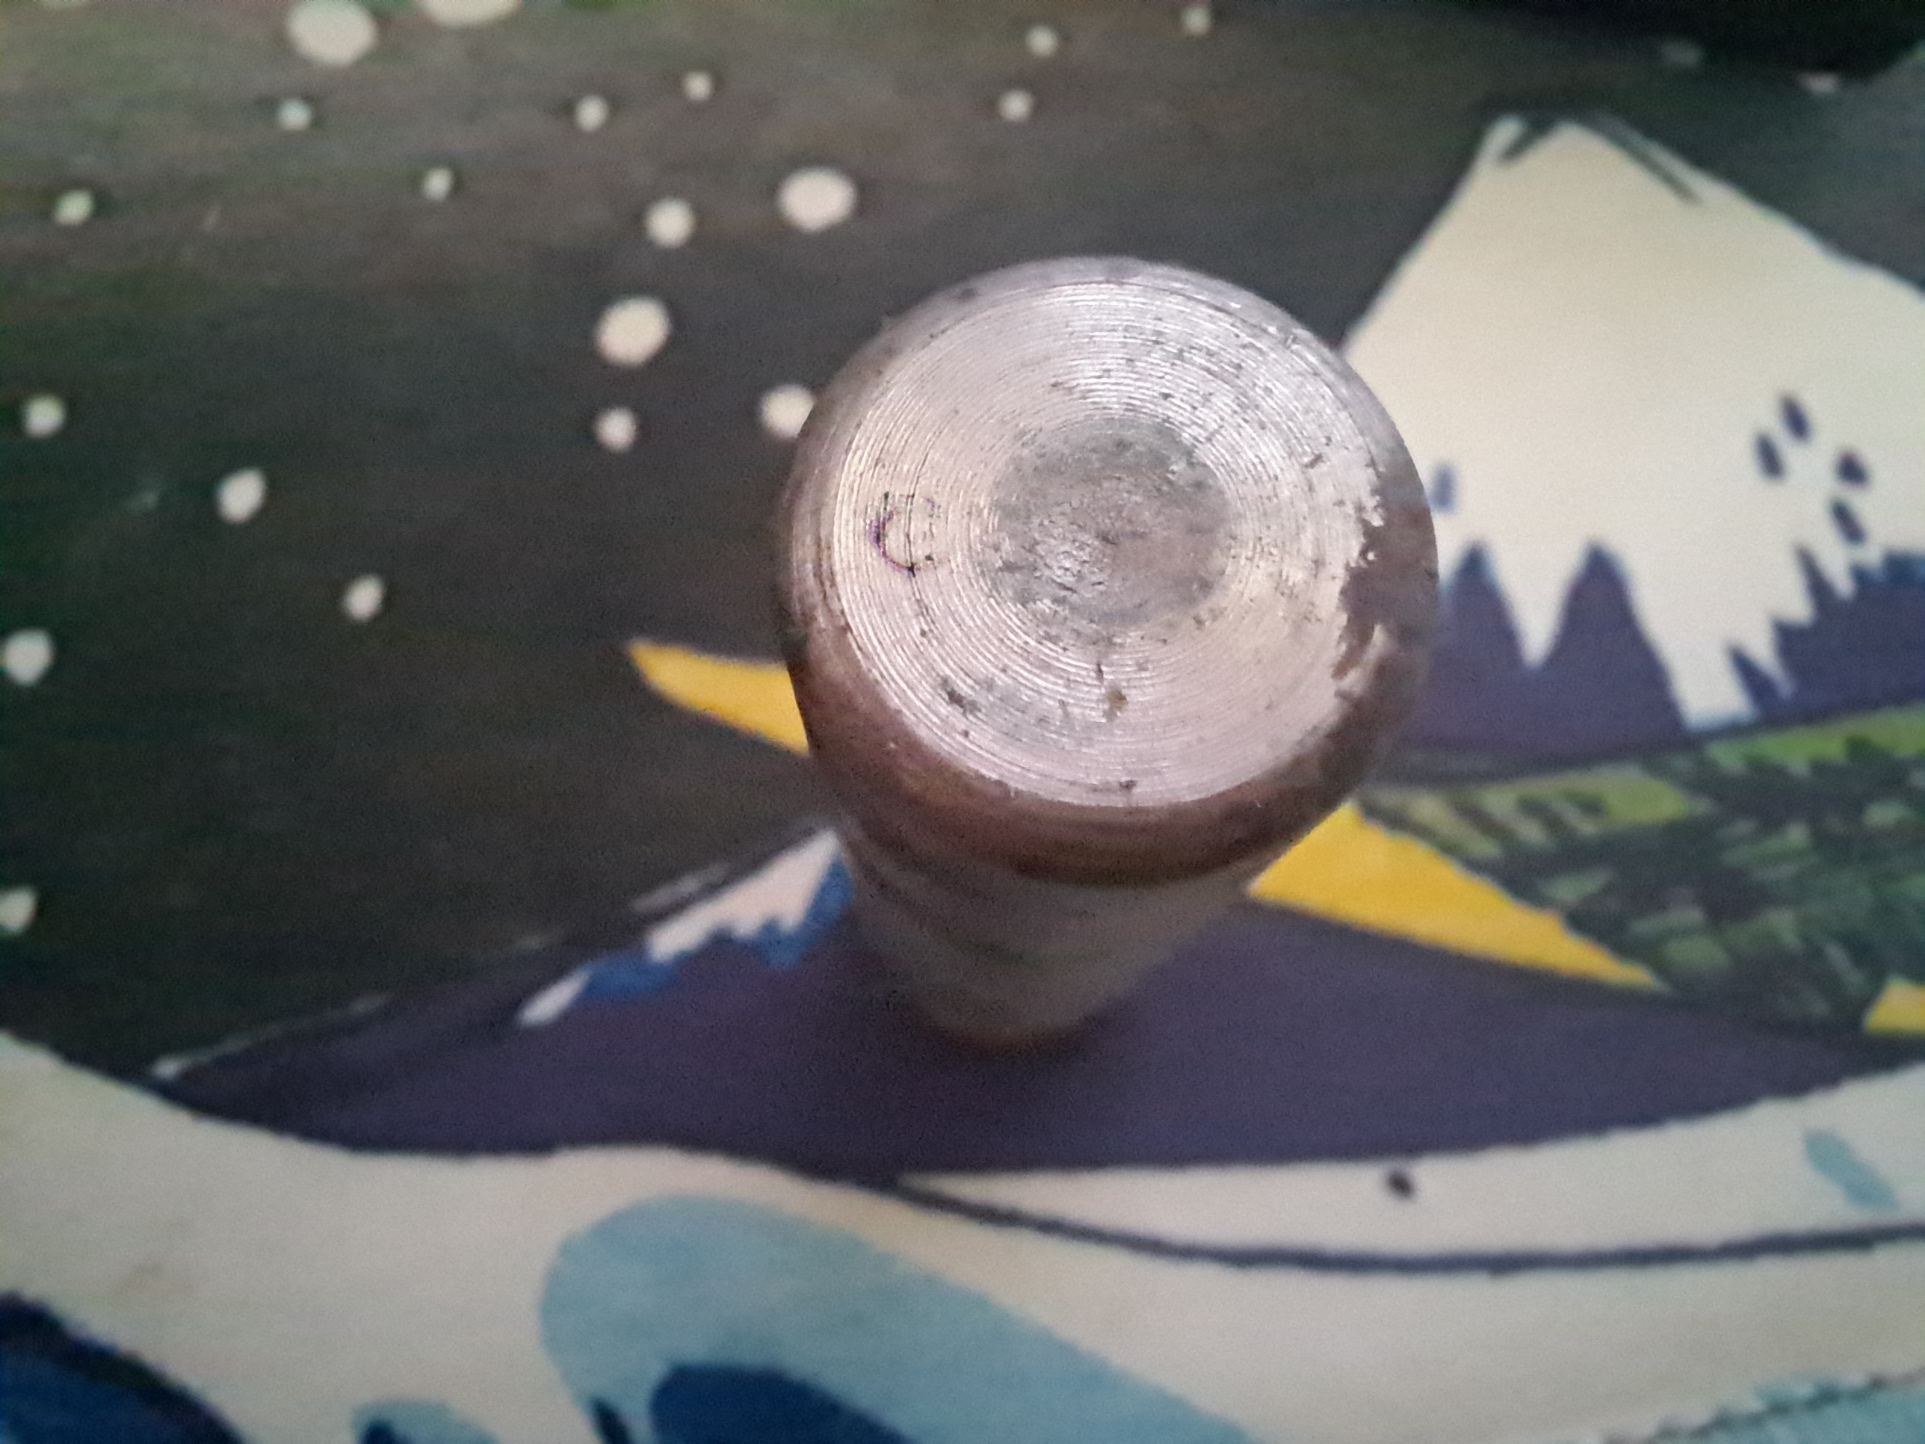плансон: (772, 249, 1443, 1063)
повреждение: (857, 493, 966, 582)
